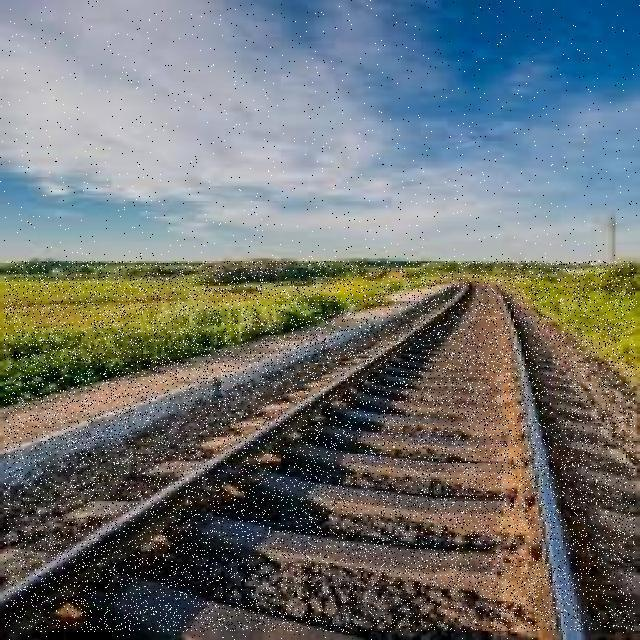rail: (5, 262, 636, 633)
